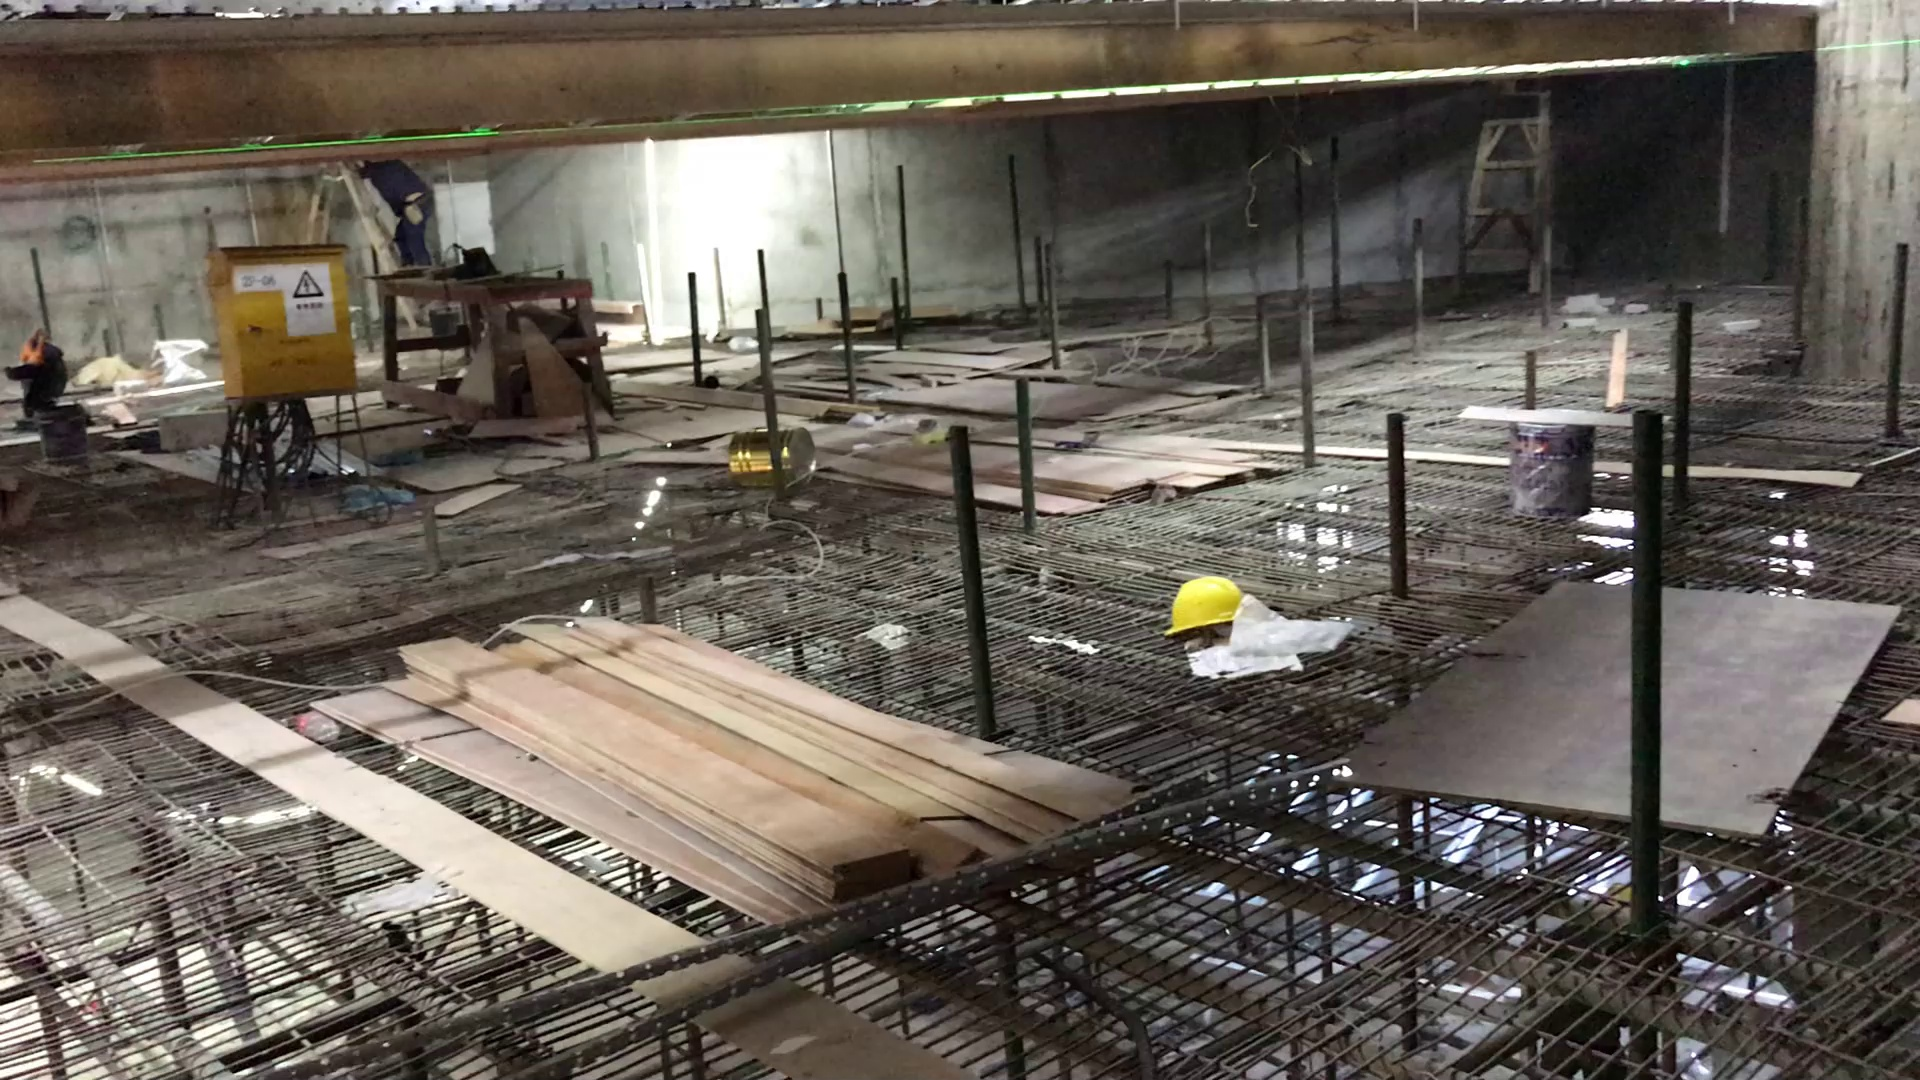board: (285, 621, 1100, 915)
cutter: (364, 258, 603, 421)
ebox: (191, 241, 377, 527)
helmet: (1162, 568, 1265, 645)
